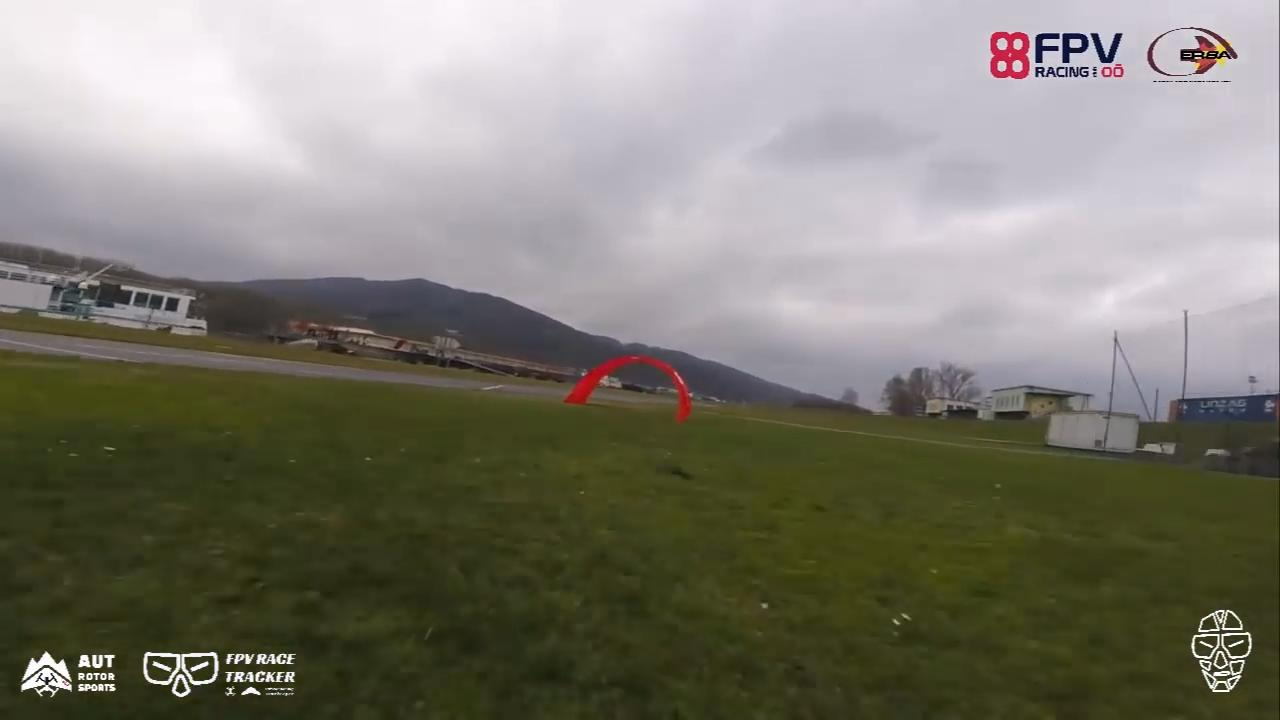gate: (562, 353, 691, 428)
